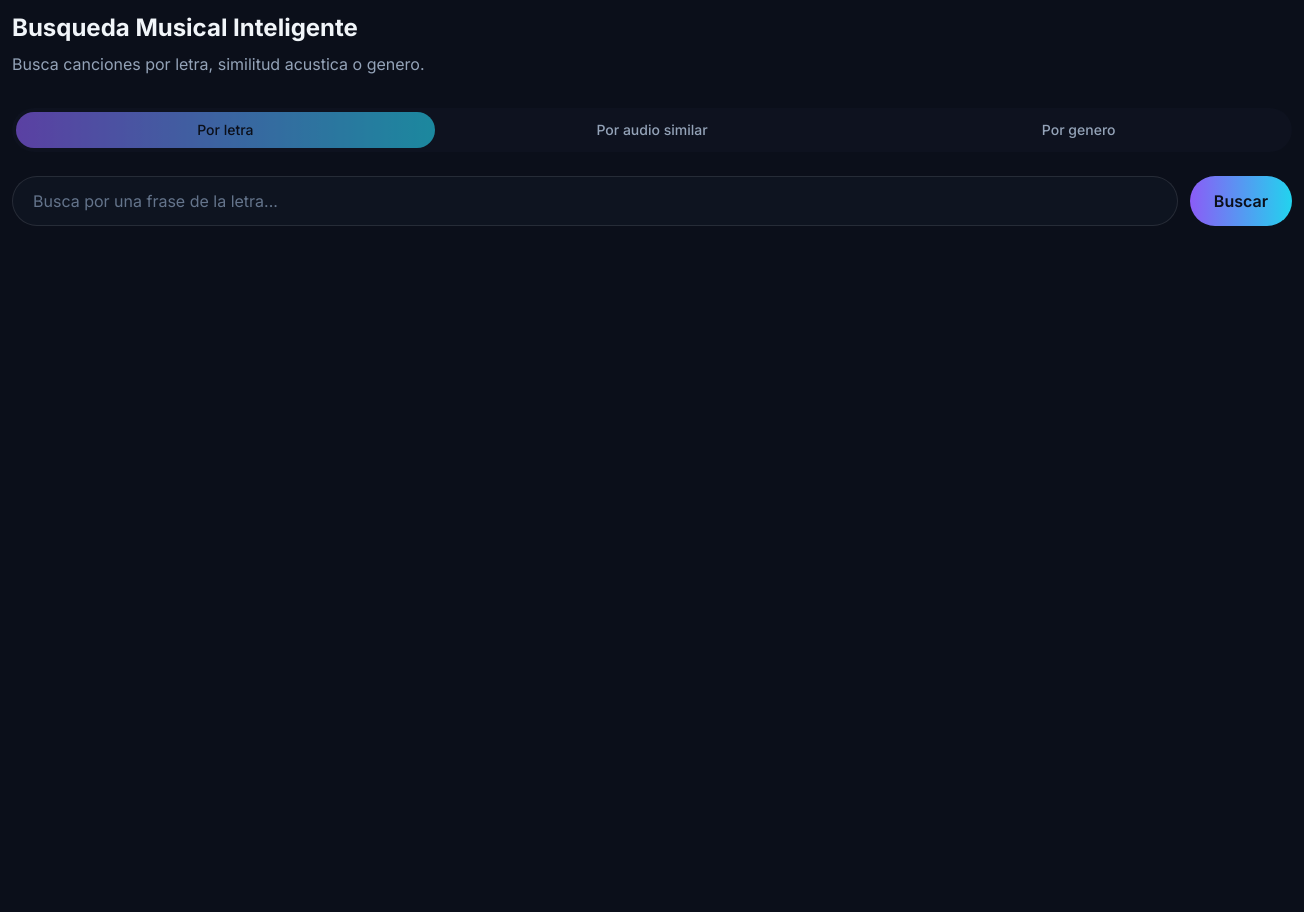
it: MusicSearchPage › runs a lyrics search and renders results
Type "luces" into the field with placeholder "Busca por una frase de la letra...". click: (595, 201)
box: [12,176,1178,226]
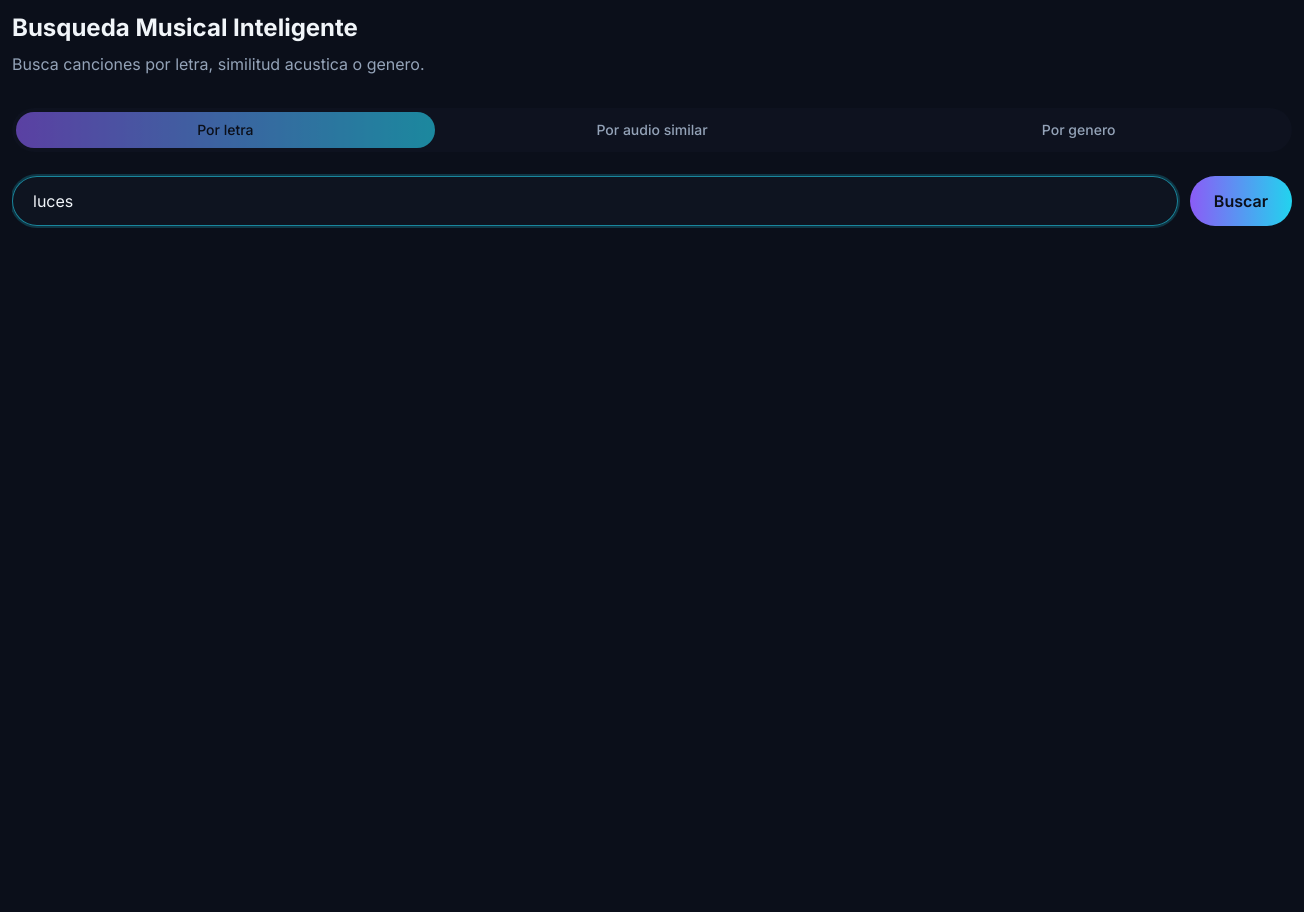
Click the button "Buscar". click: (1241, 201)
box: [1190,176,1292,226]
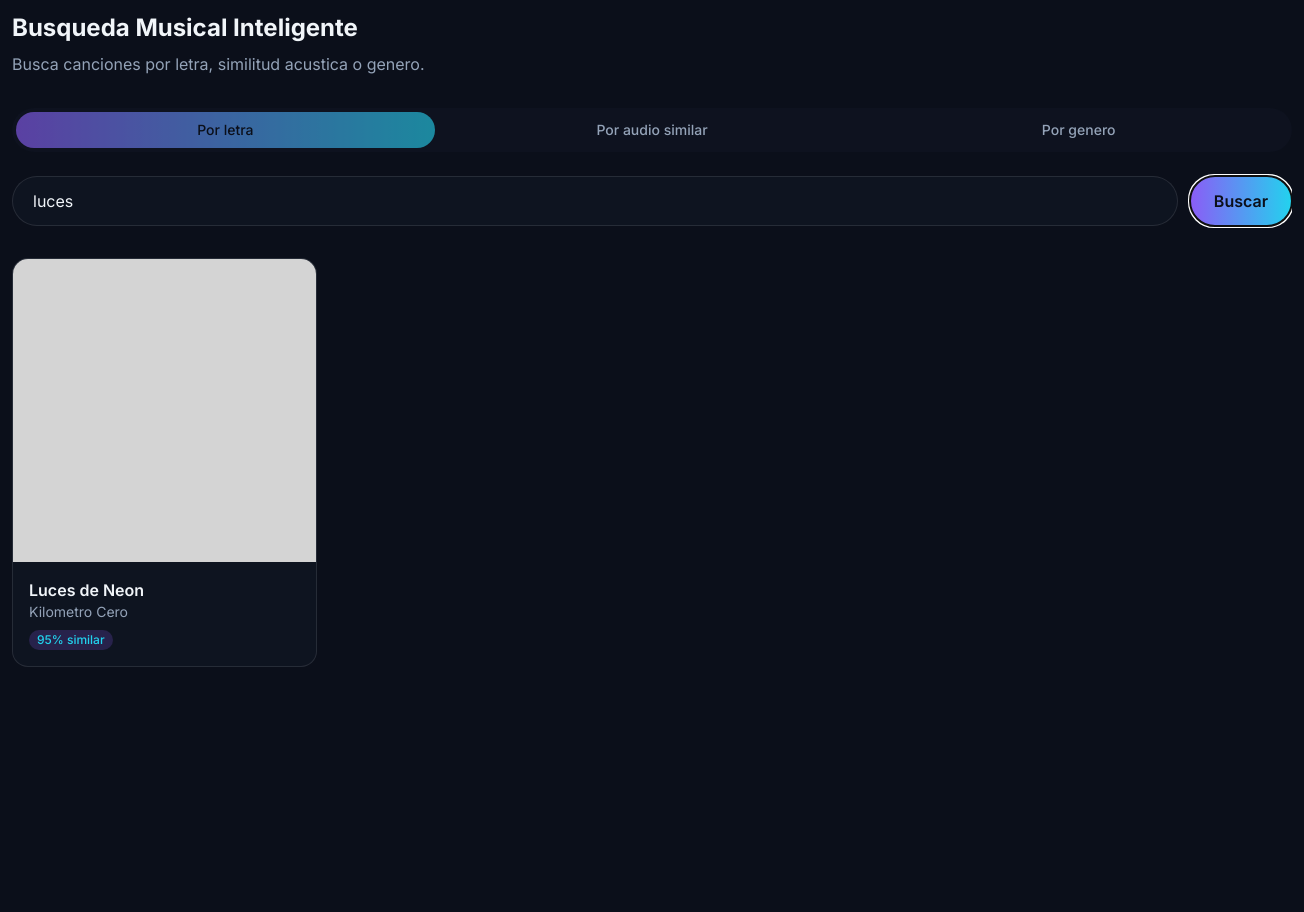
Expected: the text "Luces de Neon" is shown, [29,580,144,600]
